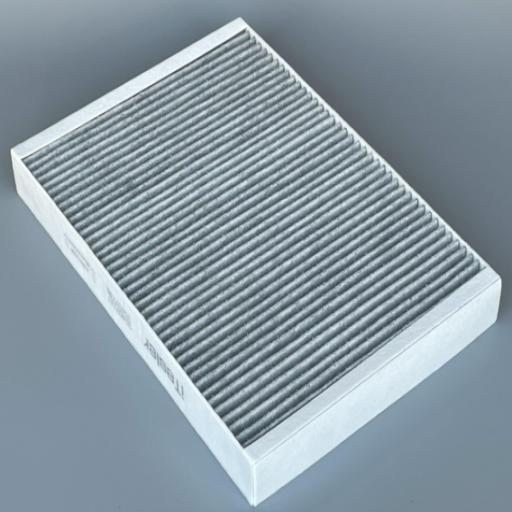cabin_filter: (7, 13, 507, 512)
